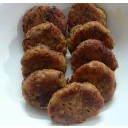cutlet: (50, 85, 101, 121), (23, 71, 64, 111), (75, 64, 115, 102), (72, 41, 119, 72), (20, 46, 66, 75), (25, 10, 68, 37), (21, 26, 62, 51), (71, 25, 113, 49), (70, 3, 108, 29)
